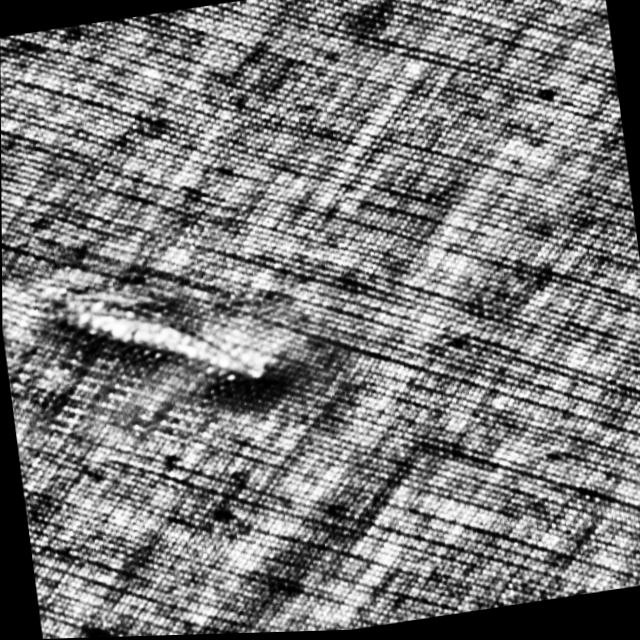Hole: (53, 257, 293, 427)
